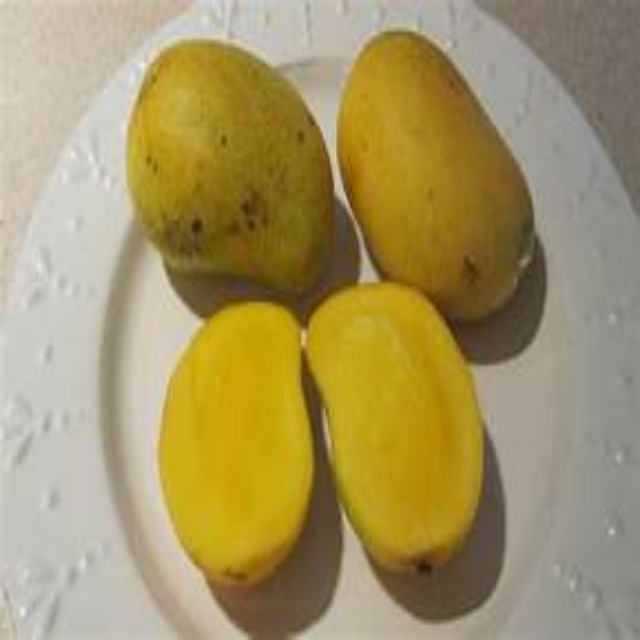mango: (343, 30, 541, 325), (308, 280, 486, 576), (120, 44, 331, 290), (163, 300, 318, 599)
